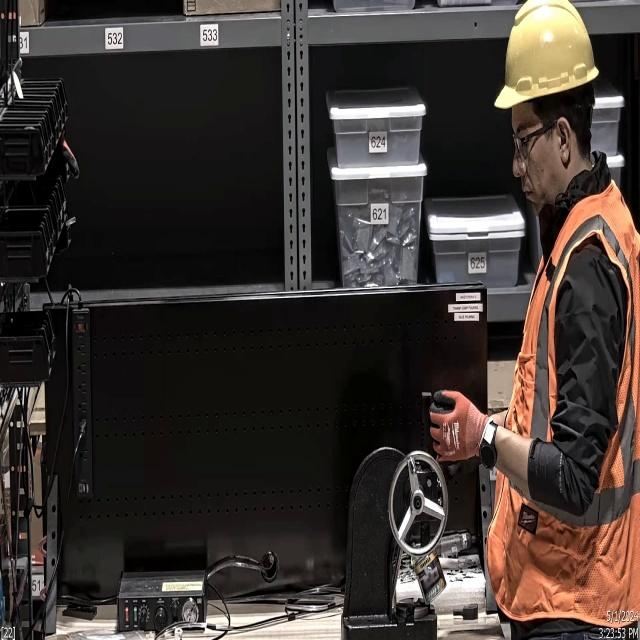gloves: (424, 384, 491, 466)
